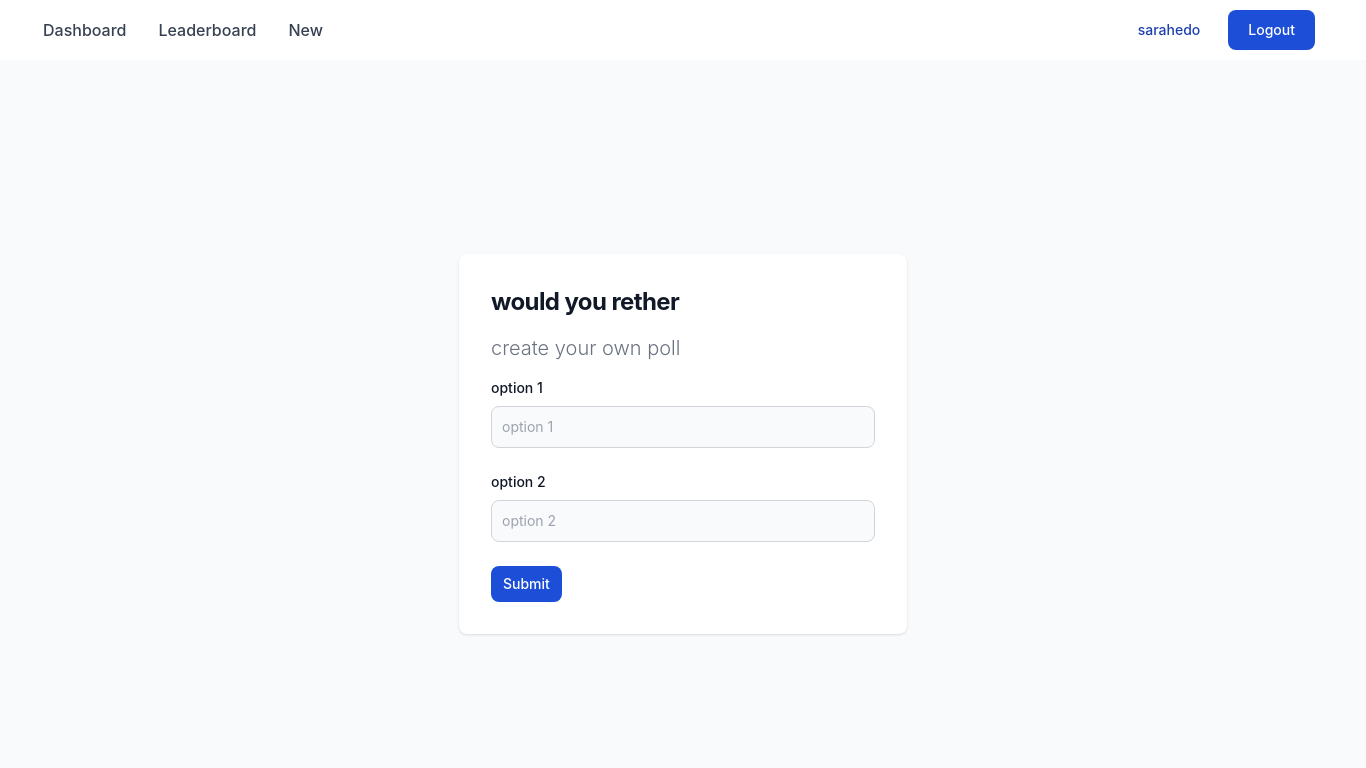
Test: PollCreation › will display a success message if the firstOption & secondOption are provided.
Type "first value" into the field with test id "firstOption" at (683, 427), box [491,406,875,448]
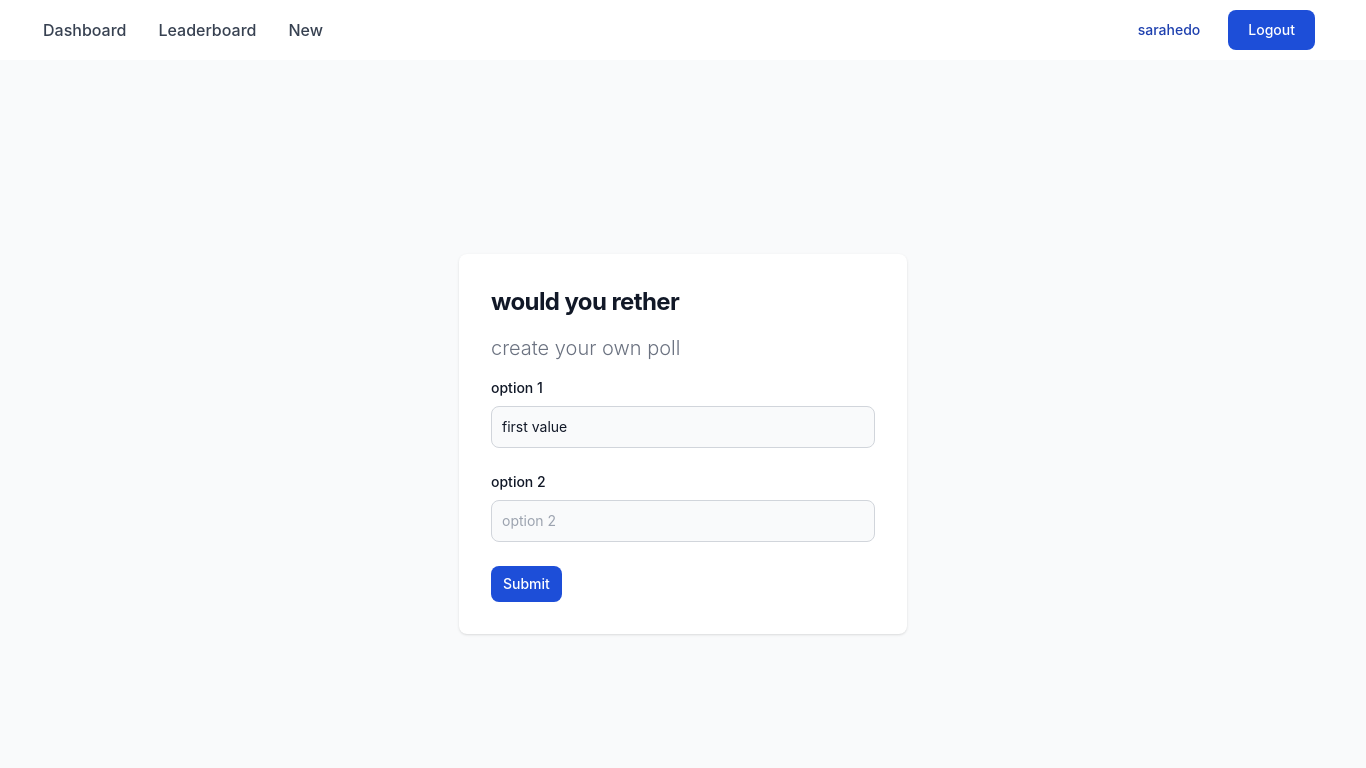
Type "second value" into the field with test id "secondOption" at (683, 521), box [491,500,875,542]
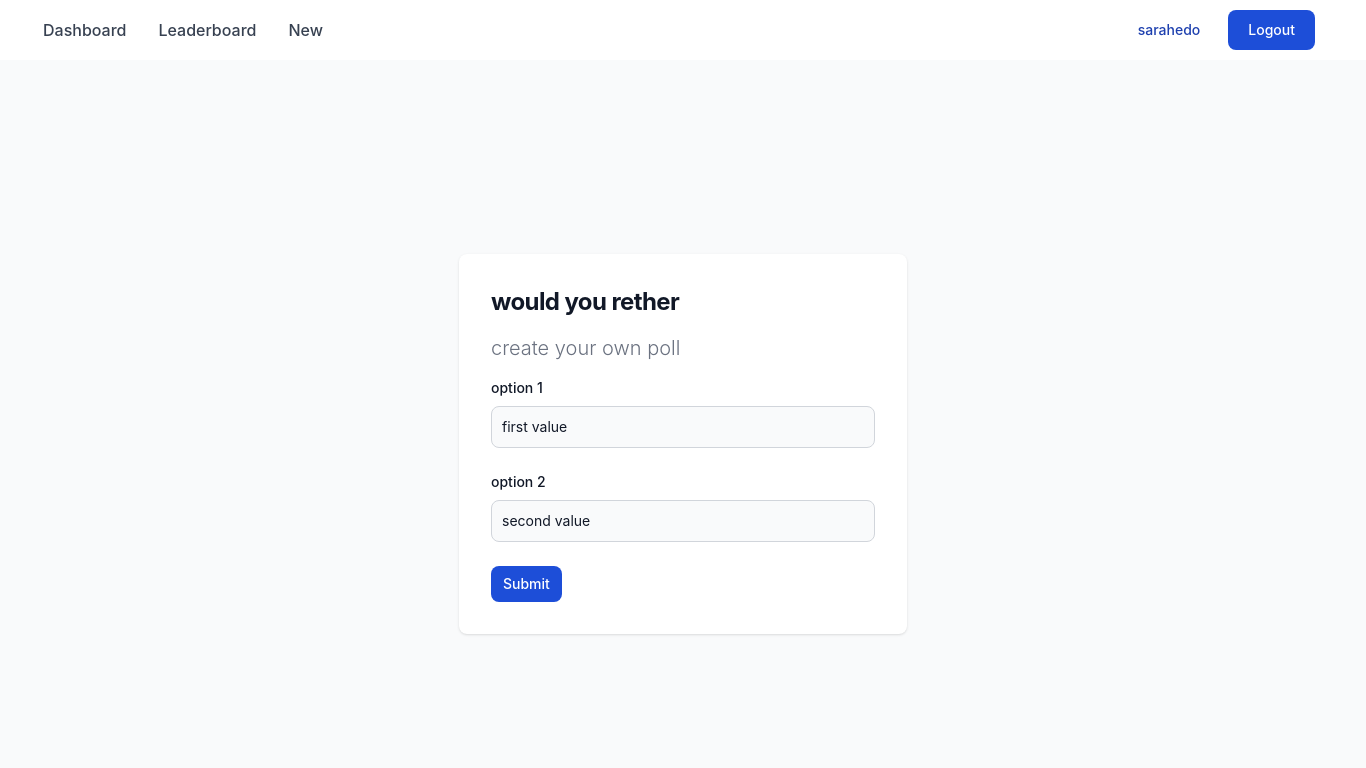
Click the button with test id "submit-button" at (526, 584), box [491,566,562,602]
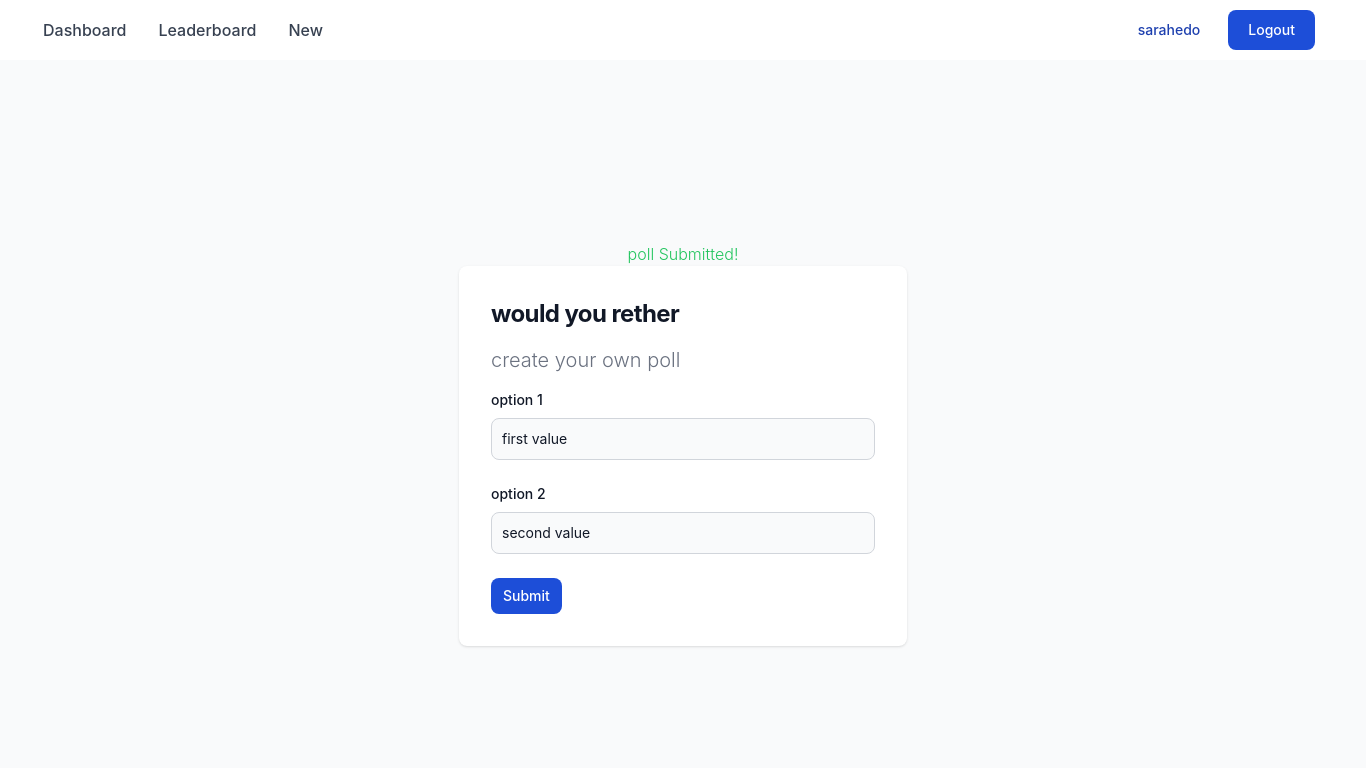
Result: the heading "poll Submitted!" is shown at [628,242,738,266]
